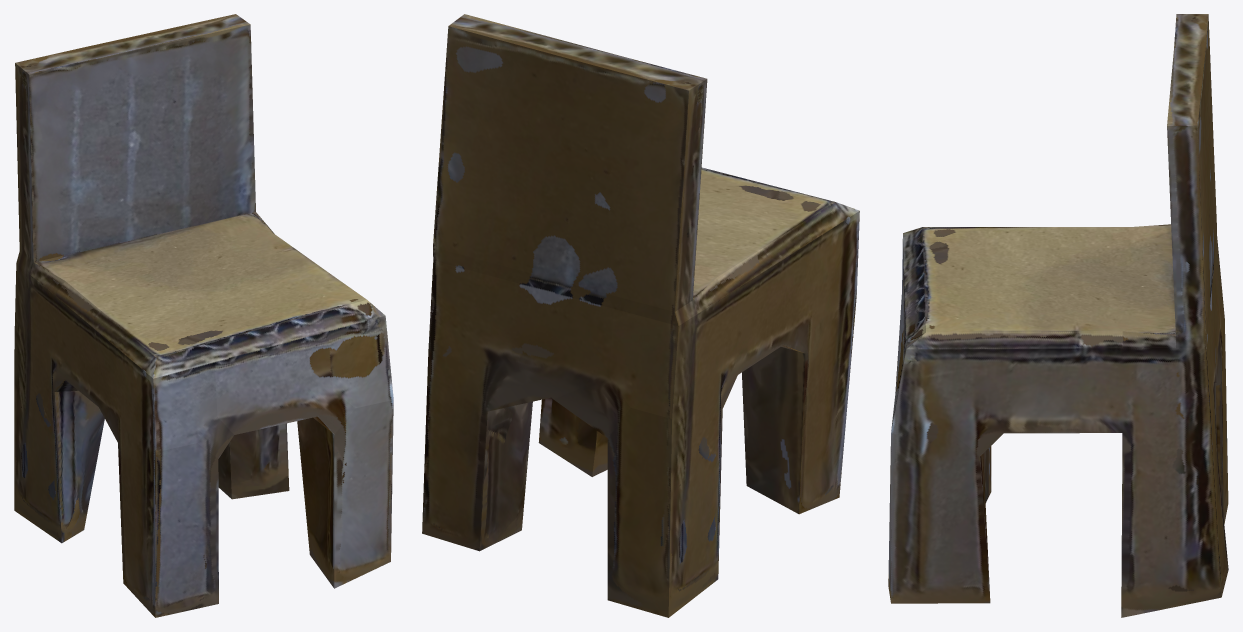
File: Chair.fbx
3 views of the same model, side by side, from view 1: azimuth 30°, elevation 25°; view 2: azimuth 150°, elevation 25°; view 3: azimuth 270°, elevation 25° (orthographic). The views are drawn at different scales.
Visible parts, largest first — view 1: Cube; view 2: Cube; view 3: Cube.
Part boxes in pixels (x1=…): Cube: x1=14, y1=14, x2=393, y2=617; Cube: x1=422, y1=14, x2=859, y2=617; Cube: x1=888, y1=14, x2=1228, y2=617.
Size of the model in its own units: 18.27 by 33.6 by 21.14.
Materials: 1 (1 with a texture image).
